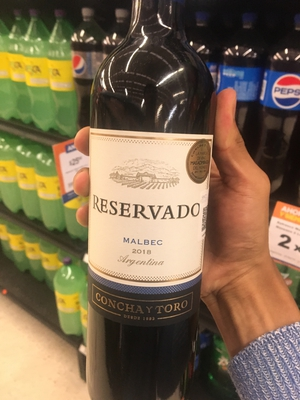reservado malbec: (89, 3, 215, 400)
